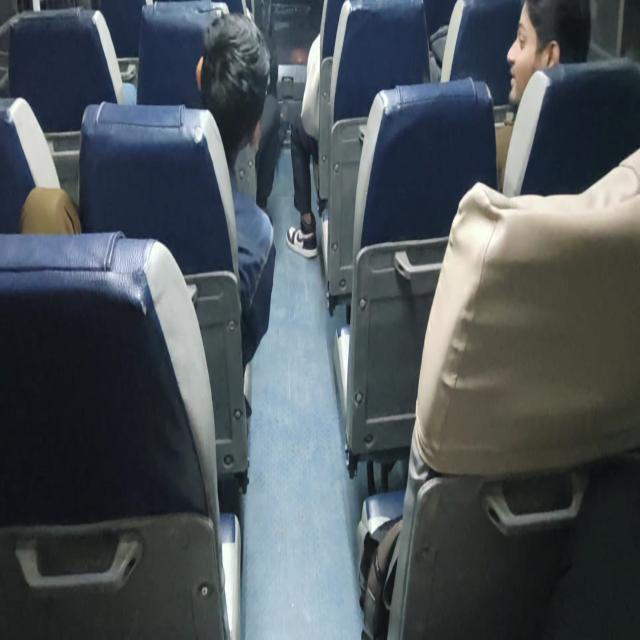person: (495, 10, 575, 128), (202, 15, 266, 125)
